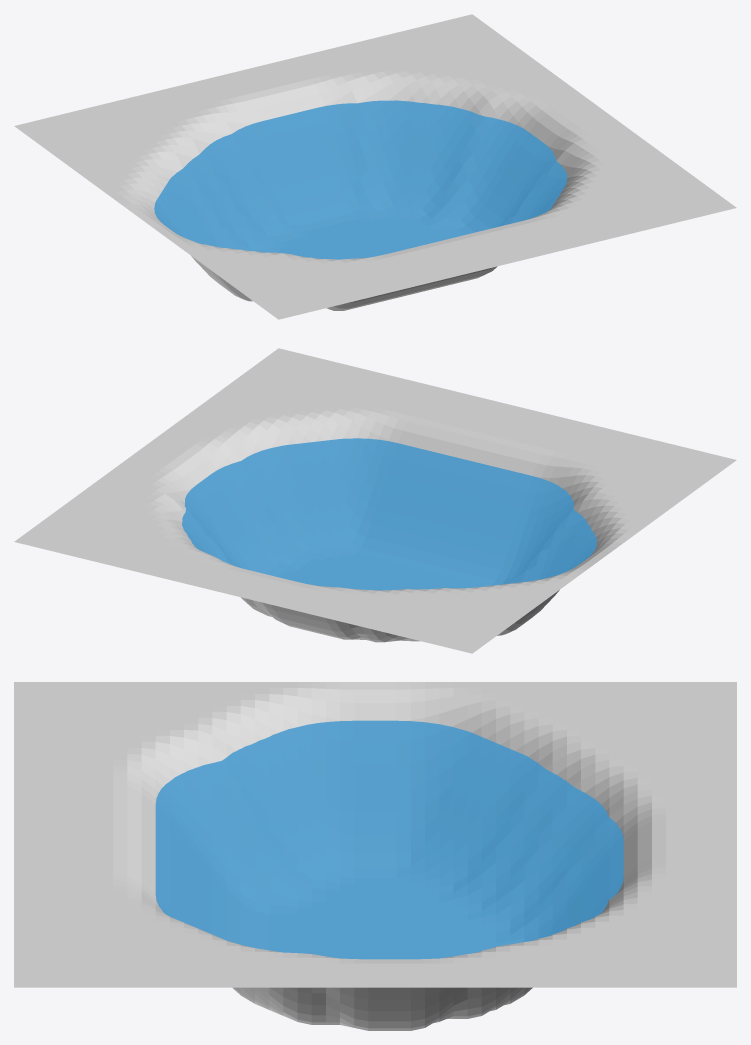
Rendered from map.gltf.
3 renders of one model, top to bottom at view 1: azimuth 30°, elevation 25°; view 2: azimuth 150°, elevation 25°; view 3: azimuth 270°, elevation 25°, orthographic. The views are drawn at different scales.
Visible parts, largest first — view 1: ground, water; view 2: ground, water; view 3: ground, water.
Boxes of the visible parts, <box> form: ground: <box>14,14,736,319</box>; water: <box>154,100,567,259</box>; ground: <box>14,348,736,653</box>; water: <box>182,438,596,590</box>; ground: <box>14,682,736,1030</box>; water: <box>155,720,623,959</box>.
Size of the model in its own units: 20 by 3.98 by 20.
